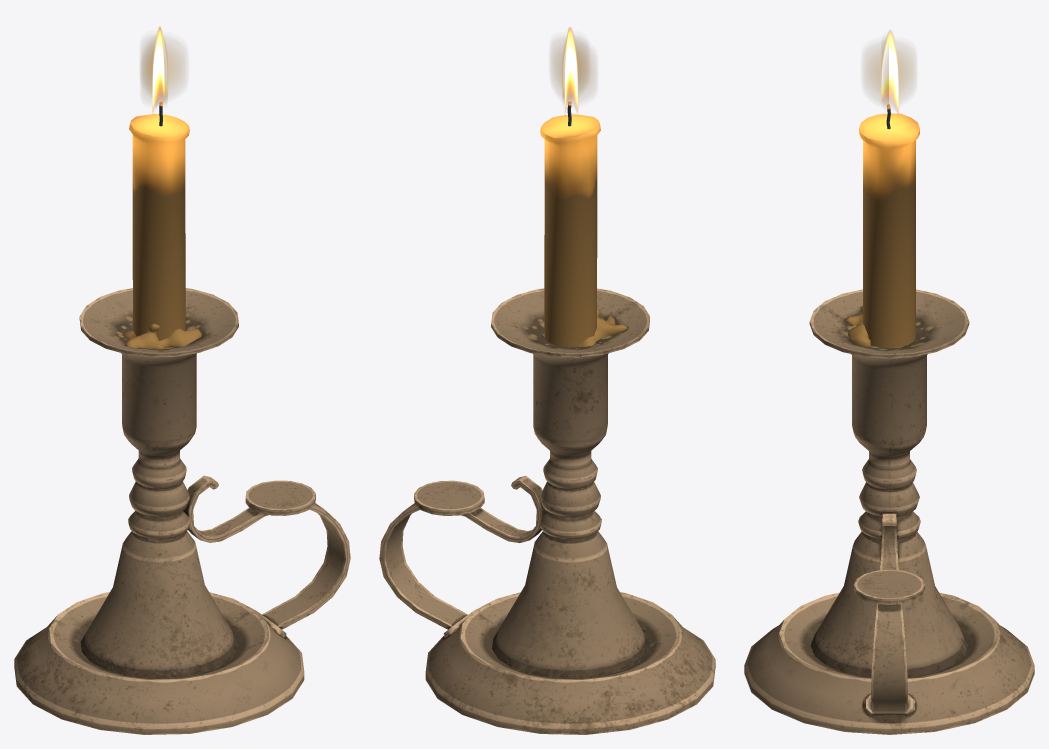
3 renders of one model, left to right at view 1: azimuth 30°, elevation 25°; view 2: azimuth 150°, elevation 25°; view 3: azimuth 270°, elevation 25°, orthographic.
Visible parts, largest first — view 1: Candlestick, Object_7; view 2: Candlestick, Object_7; view 3: Candlestick, Object_7.
Part boxes in pixels (left/top/right/bottom): Candlestick: left=14, top=101, right=350, bottom=734; Object_7: left=140, top=27, right=185, bottom=111; Candlestick: left=379, top=101, right=715, bottom=734; Object_7: left=551, top=27, right=595, bottom=112; Candlestick: left=744, top=104, right=1034, bottom=734; Object_7: left=864, top=30, right=914, bottom=113.
Size of the model in its own units: 401 by 809 by 329.
1 material, 1 textured.
